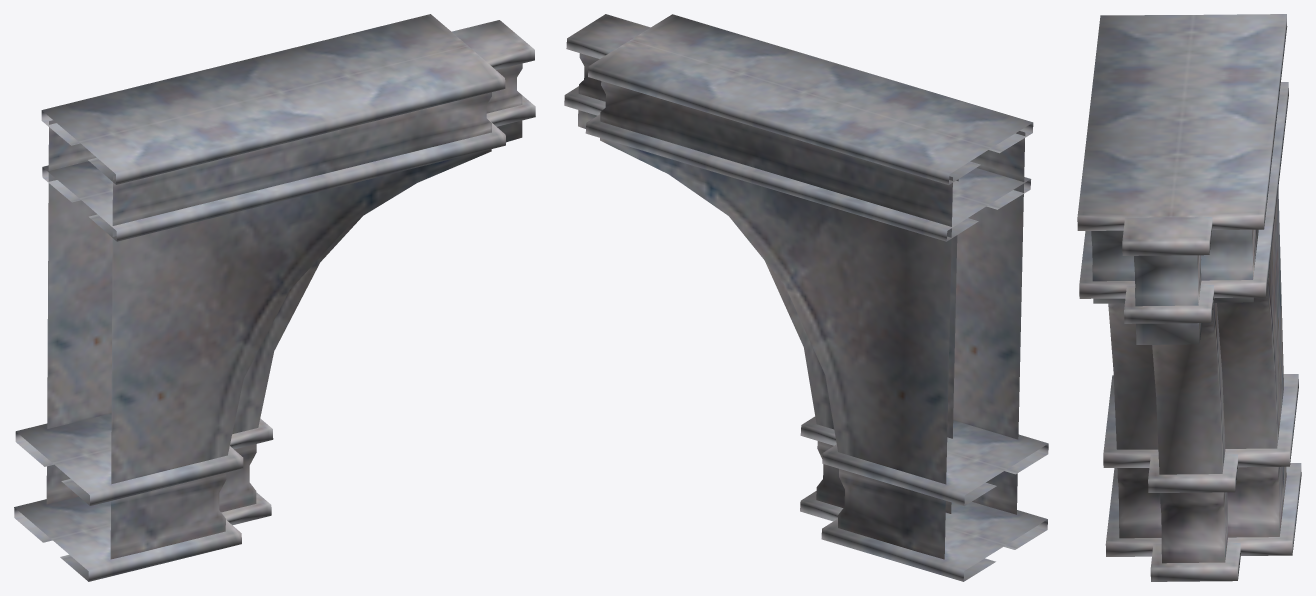
Rendered from fswz_lizhu_04.FBX.
The picture shows the model from 3 angles, left to right: view 1: azimuth 30°, elevation 25°; view 2: azimuth 150°, elevation 25°; view 3: azimuth 270°, elevation 25°; orthographic projection. The views are drawn at different scales.
Visible parts, largest first — view 1: Object189; view 2: Object189; view 3: Object189.
Boxes of the visible parts, box(x1,y1,x2,y2) form: Object189: box(14, 14, 535, 581); Object189: box(564, 14, 1048, 581); Object189: box(1077, 14, 1301, 581).
Bounding box in the file's own units: 1336 × 1189 × 492.
